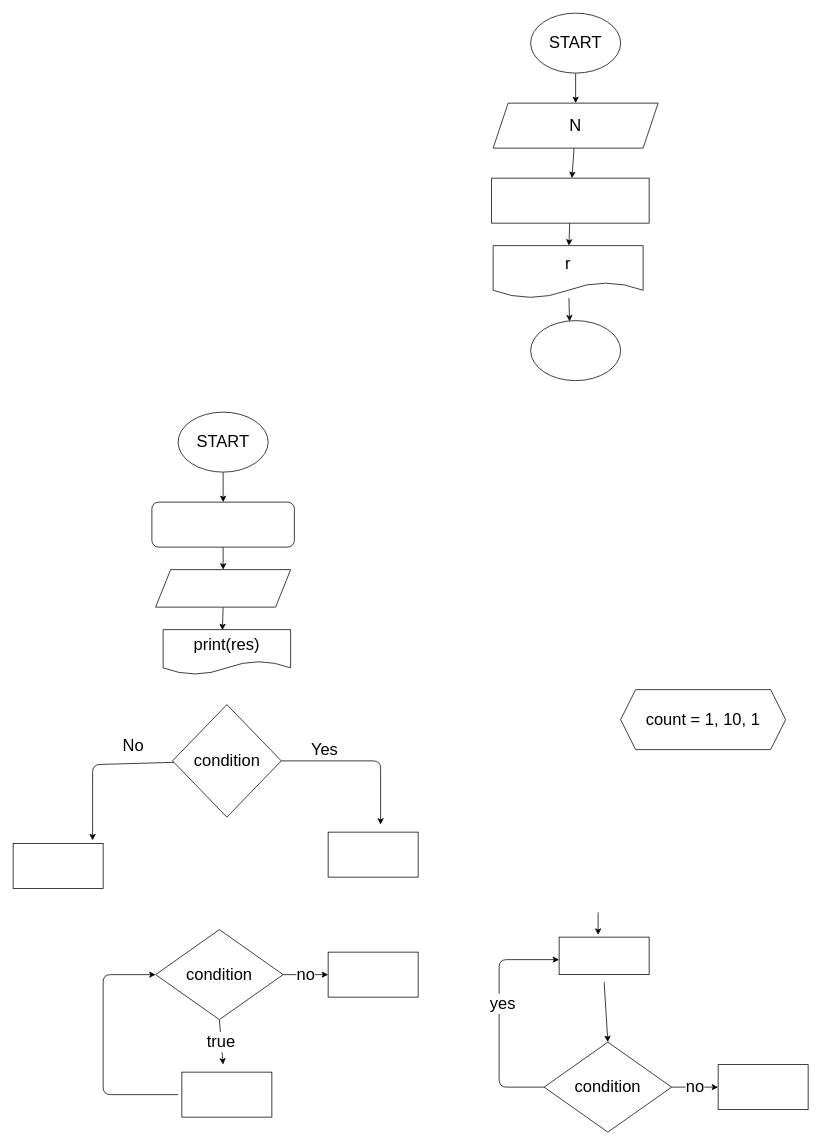
This 821x1145 diagram has some shape labels left out. The box of each missing label's shape, as (x1, y1, x2, y2) in pixels:
count =1 res = 1 * Sqrt(2): (151, 501, 294, 547)
END: (530, 320, 621, 381)
r = random(1, N): (491, 177, 649, 223)
Ввод count: (155, 569, 291, 607)
